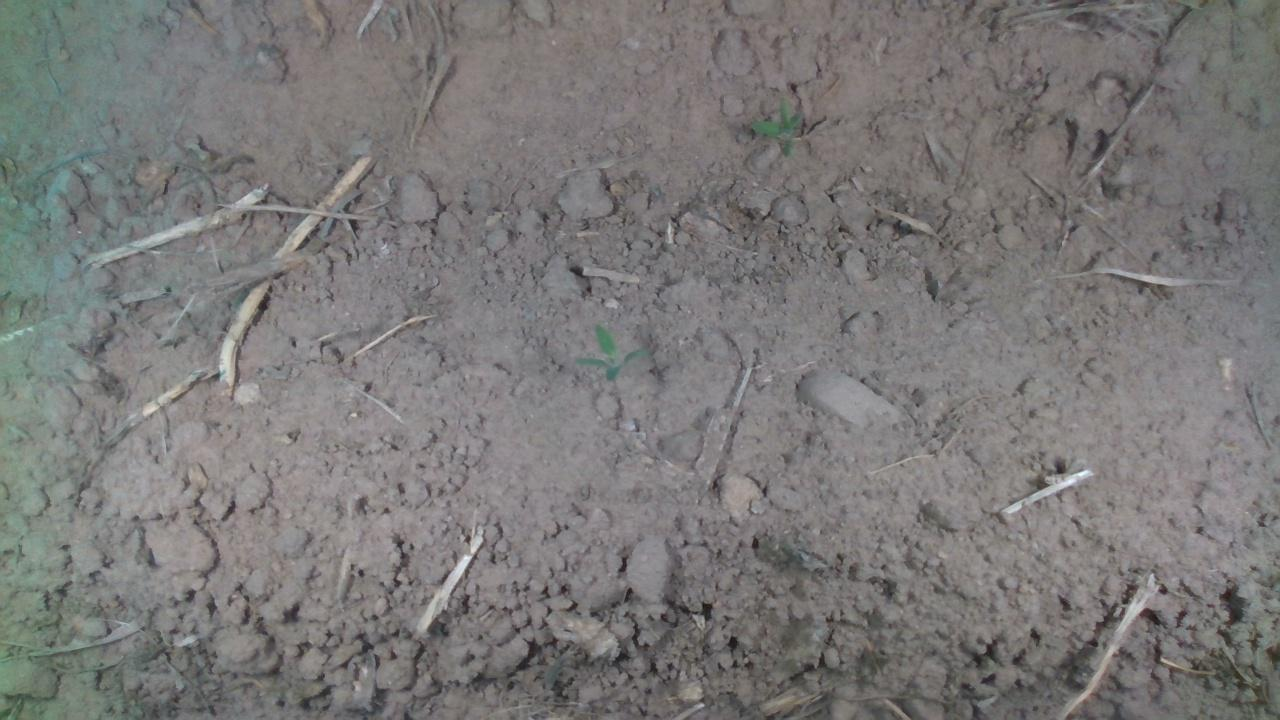weed: (567, 320, 643, 383), (744, 95, 807, 159)
